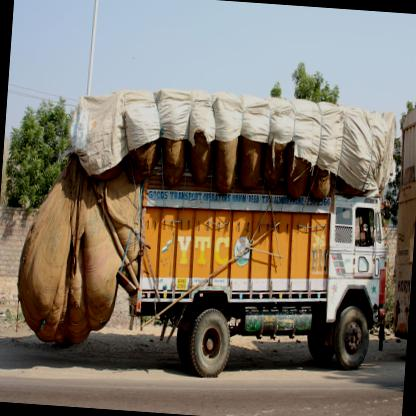truck: (128, 166, 394, 388)
